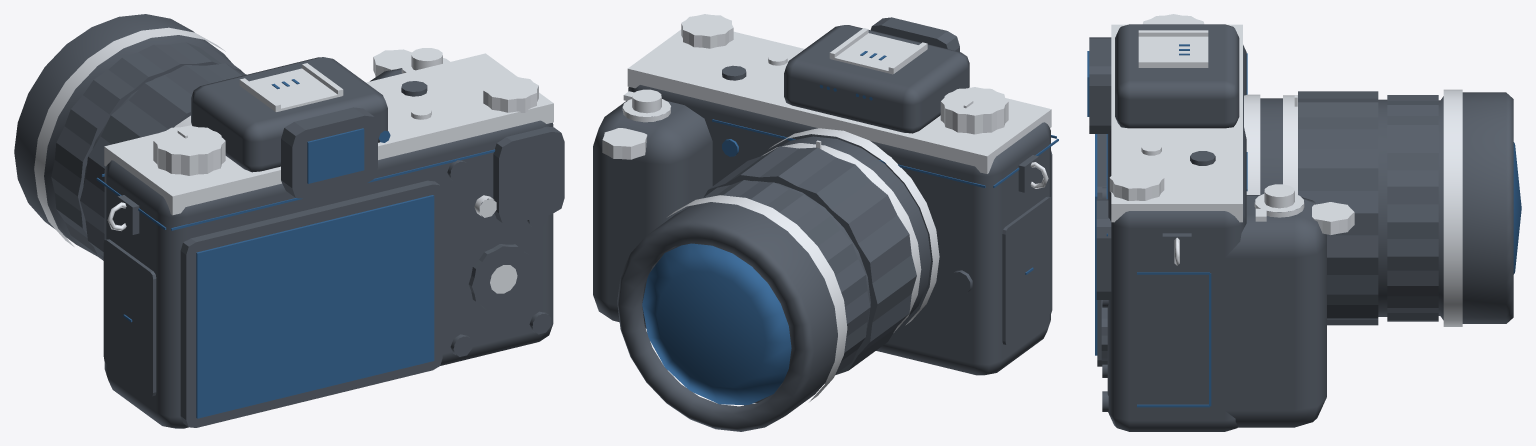
File: mirrorless.glb
The picture shows the model from 3 angles, left to right: view 1: azimuth 30°, elevation 25°; view 2: azimuth 150°, elevation 25°; view 3: azimuth 270°, elevation 25°; orthographic projection. The views are drawn at different scales.
Parts seen in each view (by area): view 1: body_shell, screen_glass, lens_shell, body_metal, screen_shell, controls_metal, details_shell, controls_shell, lens_metal, details_metal, body_glass; view 2: body_shell, lens_shell, lens_glass, body_metal, controls_metal, details_shell, details_metal, lens_metal, controls_shell, body_glass; view 3: body_shell, lens_shell, body_metal, lens_metal, controls_metal, details_metal, body_glass, controls_shell, screen_shell, details_shell, screen_glass, lens_glass.
Part boxes in pixels (<box>): body_shell: <box>104,57,564,428</box>; screen_glass: <box>196,128,434,418</box>; lens_shell: <box>14,14,246,260</box>; body_metal: <box>104,53,553,215</box>; screen_shell: <box>180,180,442,427</box>; controls_metal: <box>153,48,538,293</box>; details_shell: <box>103,195,156,396</box>; controls_shell: <box>401,81,551,356</box>; lens_metal: <box>34,27,225,246</box>; details_metal: <box>107,63,343,230</box>; body_glass: <box>96,149,495,230</box>; body_shell: <box>593,17,1050,375</box>; lens_shell: <box>617,136,930,431</box>; lens_glass: <box>642,243,791,405</box>; body_metal: <box>627,29,1051,173</box>; controls_metal: <box>602,14,1008,159</box>; details_shell: <box>1002,155,1051,344</box>; details_metal: <box>769,28,1048,325</box>; lens_metal: <box>667,140,921,401</box>; controls_shell: <box>722,65,972,294</box>; body_glass: <box>712,119,1058,187</box>; body_shell: <box>1089,24,1326,431</box>; lens_shell: <box>1260,91,1513,325</box>; body_metal: <box>1111,24,1242,222</box>; lens_metal: <box>1283,89,1462,326</box>; controls_metal: <box>1109,14,1354,234</box>; details_metal: <box>1138,30,1260,265</box>; body_glass: <box>1106,53,1247,407</box>; controls_shell: <box>1101,151,1215,411</box>; screen_shell: <box>1097,134,1106,366</box>; details_shell: <box>1162,233,1191,262</box>; screen_glass: <box>1087,51,1097,355</box>; lens_glass: <box>1513,142,1521,274</box>.
Size of the model in its own units: 0.1348 by 0.0858 by 0.1188.
